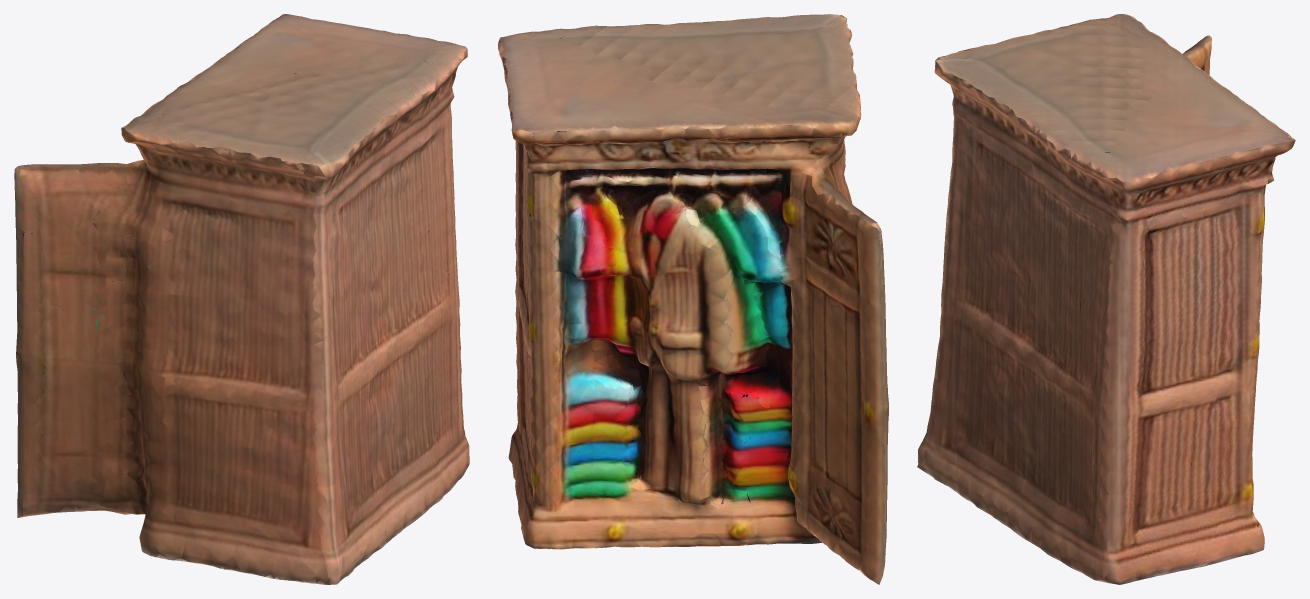
Rendered from closet_a.glb.
3 views of the same model, side by side, from view 1: azimuth 30°, elevation 25°; view 2: azimuth 150°, elevation 25°; view 3: azimuth 270°, elevation 25° (orthographic). The views are drawn at different scales.
Visible parts, largest first — view 1: world; view 2: world; view 3: world.
Boxes of the visible parts, box(x1,y1,x2,y2) form: world: box(14, 14, 469, 584); world: box(498, 14, 888, 584); world: box(917, 14, 1295, 584).
Bounding box in the file's own units: 0.8251 × 0.8224 × 0.661.
Materials: 1 (1 with a texture image).
